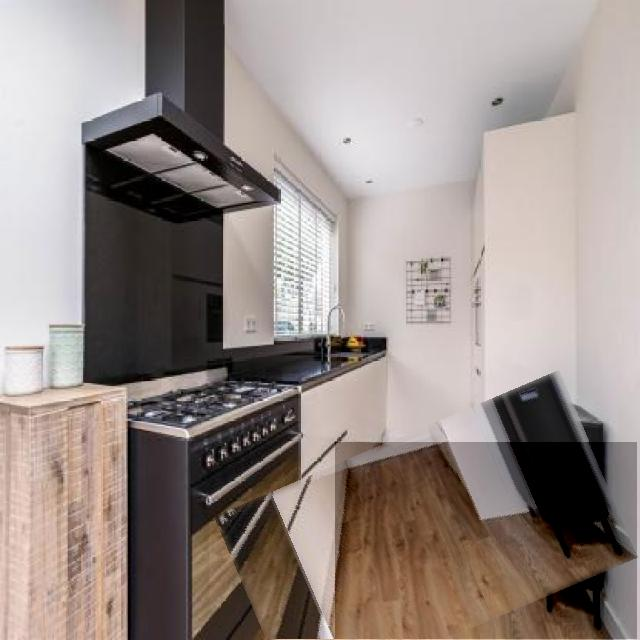floor: (336, 443, 637, 640)
